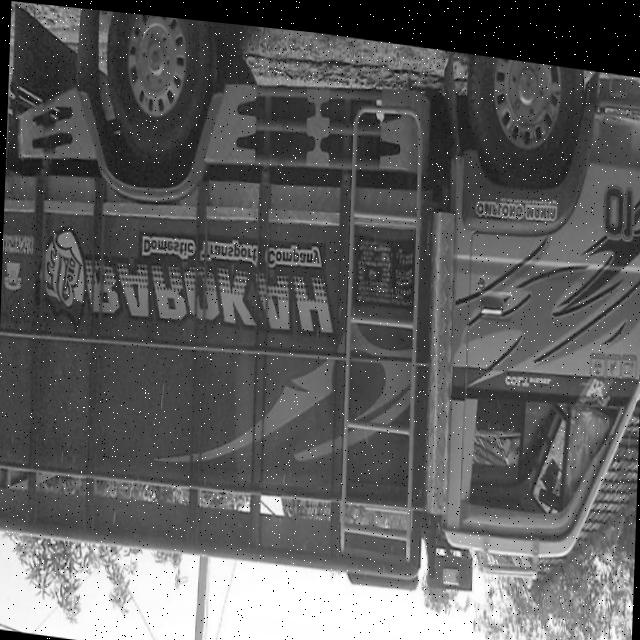truck: (384, 35, 640, 604)
